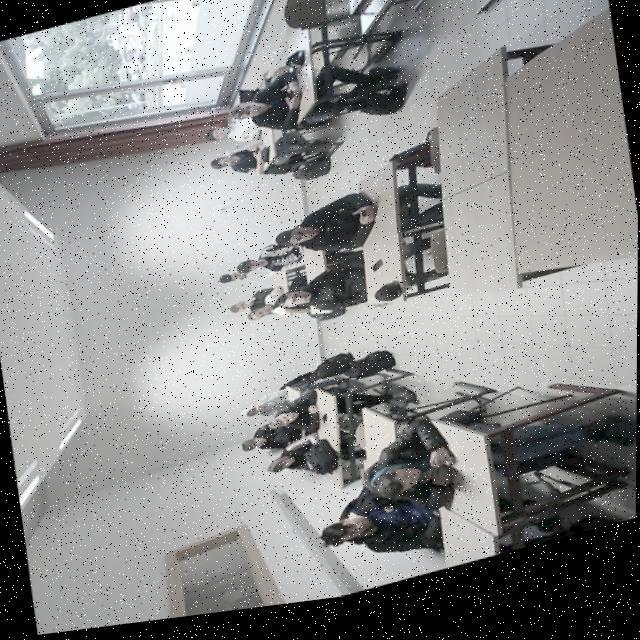phone_use: (338, 415, 457, 550), (275, 192, 375, 250), (251, 65, 299, 128), (210, 145, 268, 170)
